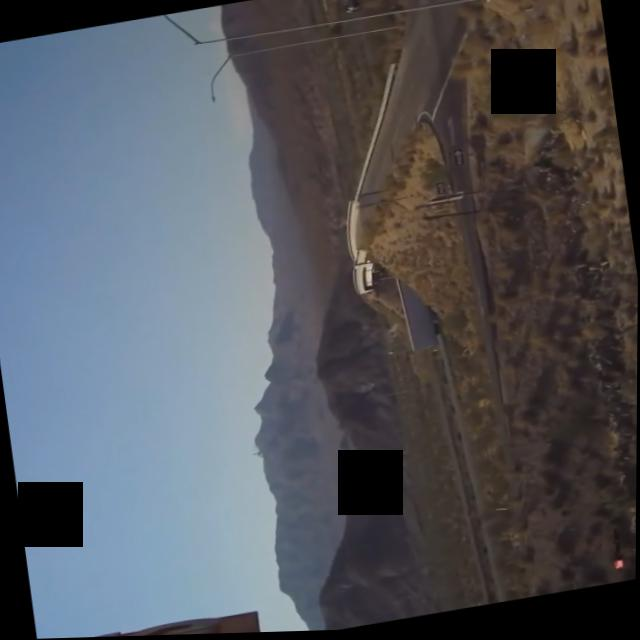Building: (37, 601, 266, 639)
Pole: (156, 0, 486, 53), (199, 25, 408, 106)
